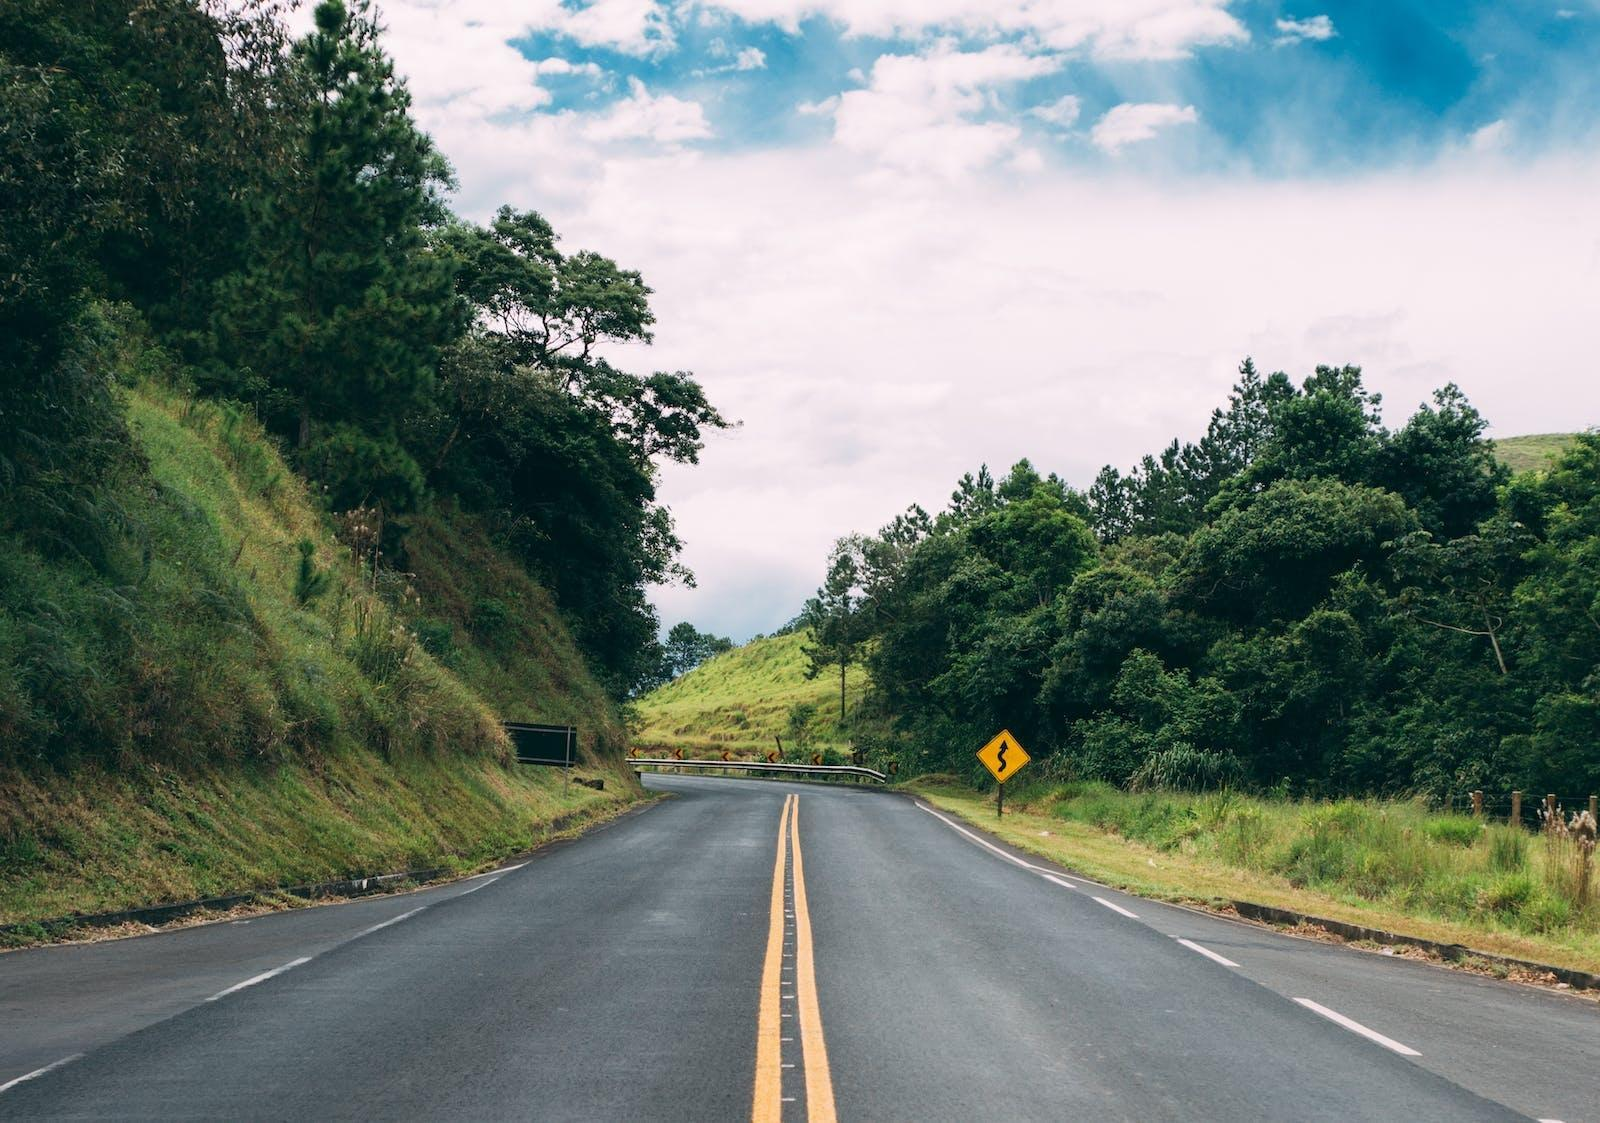field: (0, 376, 640, 921), (905, 781, 1599, 974)
road: (0, 775, 1599, 1121)
